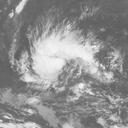cyclone: (17, 24, 108, 92)
